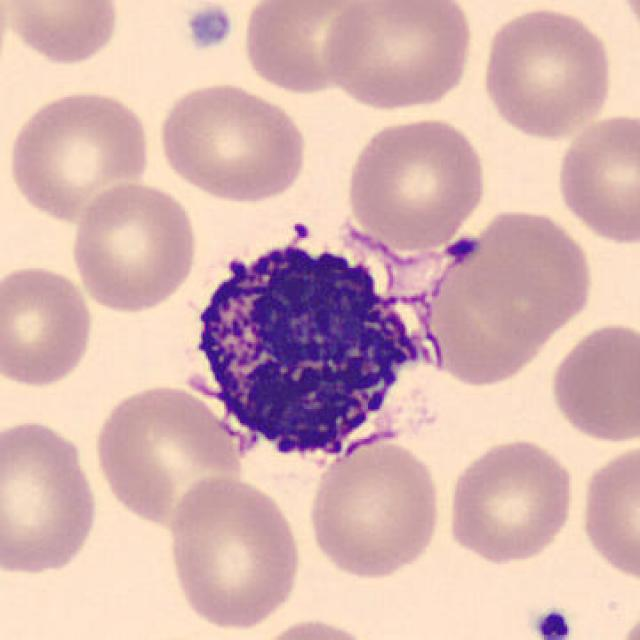Basophil: (172, 219, 450, 481)
Platelets: (183, 4, 237, 51), (530, 604, 576, 640)
RBC: (89, 379, 247, 529), (162, 471, 306, 633), (302, 434, 446, 582), (343, 113, 491, 254), (5, 85, 155, 224), (450, 203, 597, 340), (153, 78, 311, 204), (476, 3, 617, 143), (66, 178, 201, 316), (442, 434, 578, 566), (318, 0, 476, 113), (0, 416, 101, 578), (238, 0, 377, 95), (0, 261, 98, 391), (553, 109, 640, 247), (546, 317, 638, 446), (576, 439, 638, 584), (2, 0, 122, 67), (249, 615, 380, 640), (608, 0, 640, 46), (612, 610, 638, 640)
